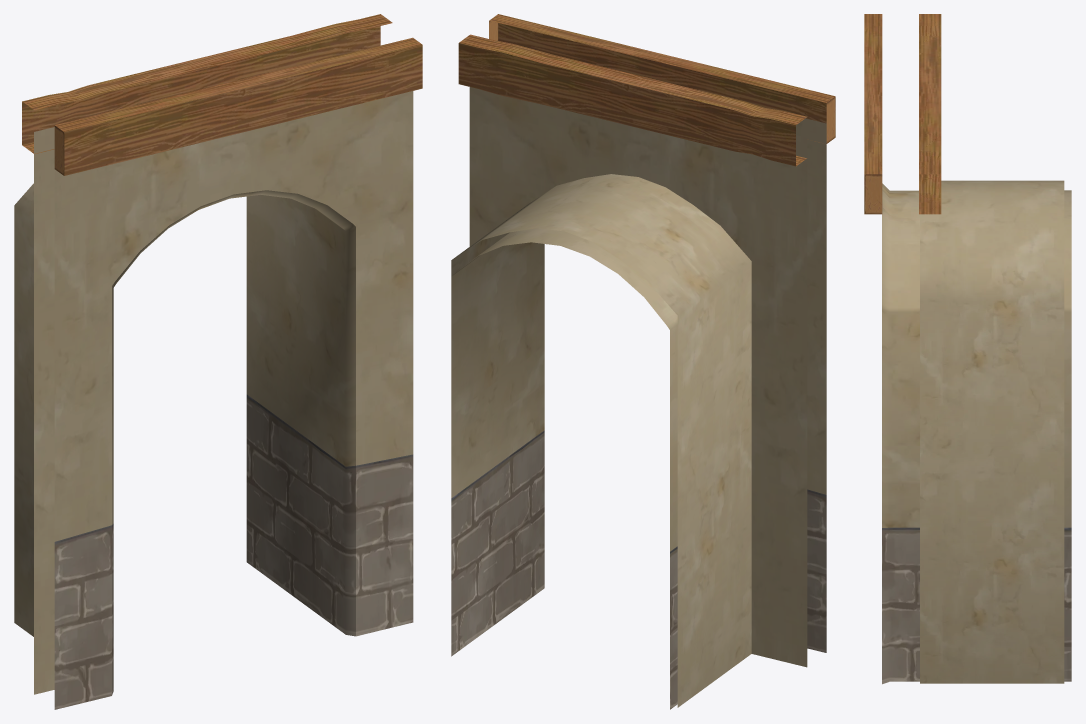
File: wall_plaster_door_roundinset.glb
The picture shows the model from 3 angles, left to right: view 1: azimuth 30°, elevation 25°; view 2: azimuth 150°, elevation 25°; view 3: azimuth 270°, elevation 25°; orthographic projection. The views are drawn at different scales.
Bounding box in the file's own units: 2 × 3.12 × 1.09.
Materials: 3 (3 with a texture image).
